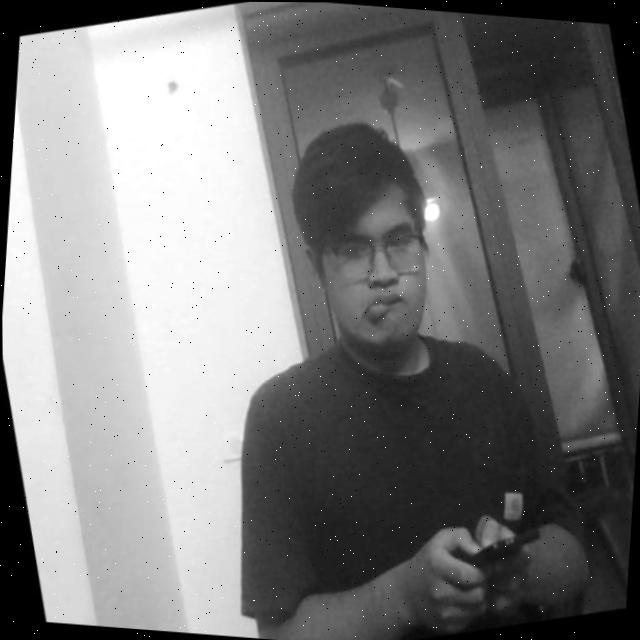phone: (440, 500, 569, 597)
